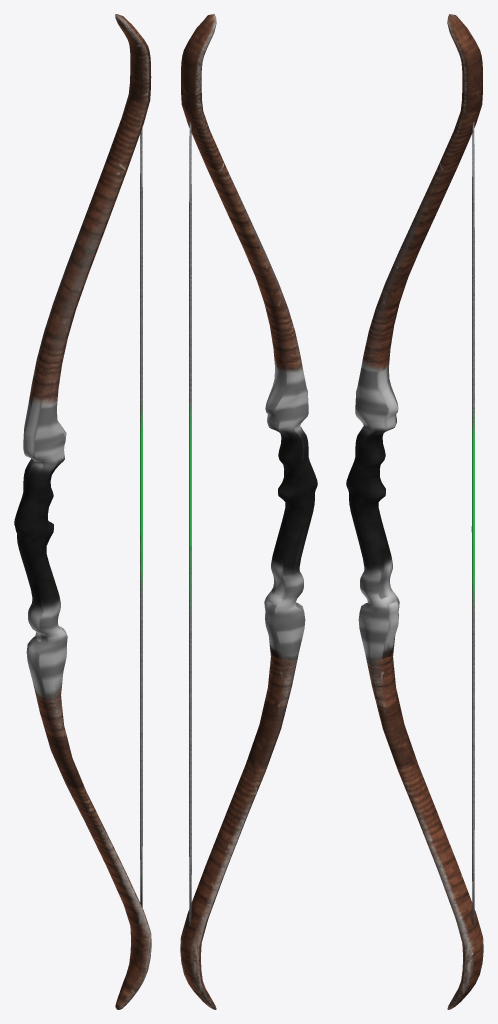
The model's file is simple_bow.glb.
The picture shows the model from 3 angles, left to right: view 1: azimuth 30°, elevation 25°; view 2: azimuth 210°, elevation 25°; view 3: azimuth 330°, elevation 25°; orthographic projection.
Parts seen in each view (by area): view 1: Object_2; view 2: Object_2; view 3: Object_2.
Boxes of the visible parts, <box> form: Object_2: <box>14,14,151,1009</box>; Object_2: <box>180,14,317,1009</box>; Object_2: <box>346,14,483,1009</box>.
Bounding box in the file's own units: 4.89 × 35.31 × 1.
Materials: 1 (1 with a texture image).
